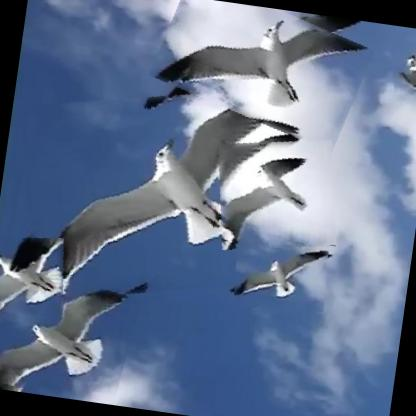bird: (3, 62, 329, 323), (147, 0, 372, 143), (0, 268, 139, 406), (208, 128, 345, 259), (229, 234, 331, 315), (0, 229, 70, 332), (385, 37, 416, 97)
